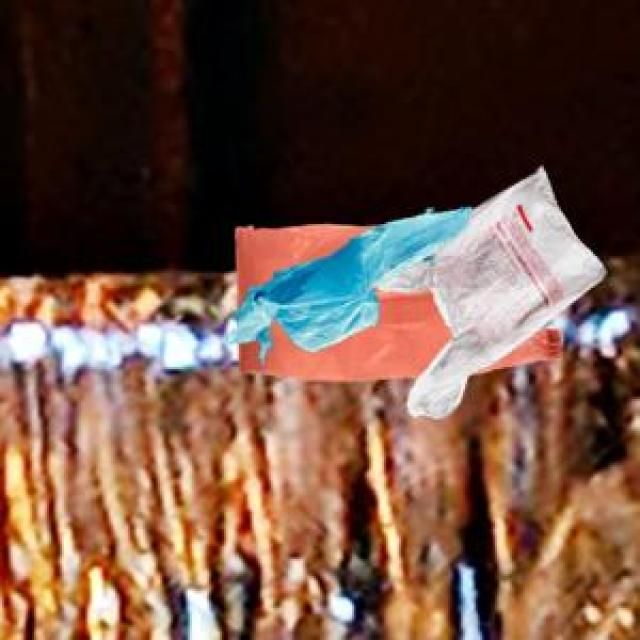waste: (235, 168, 605, 417)
